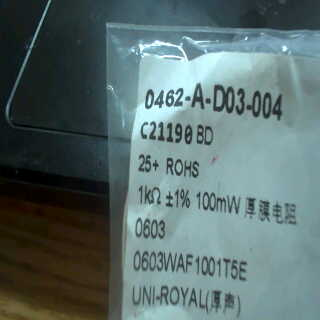1kR: (135, 183, 165, 207)
